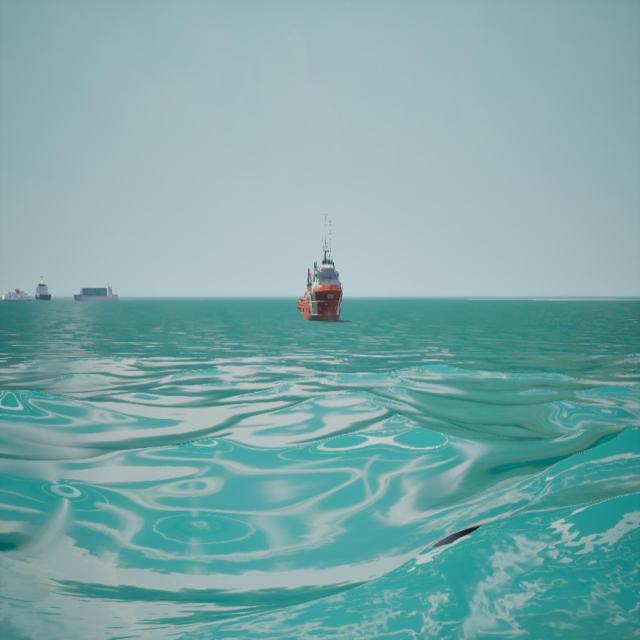tug boat: (299, 215, 345, 323)
